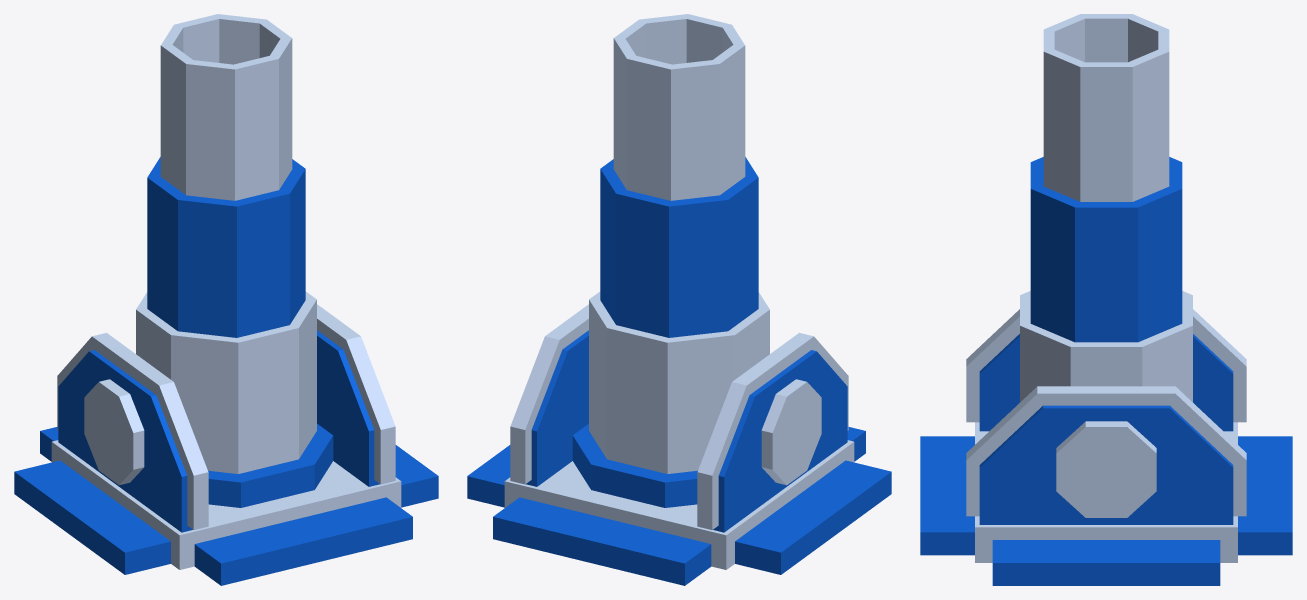
The model's file is Mortar_AA_1.fbx.
The picture shows the model from 3 angles, left to right: view 1: azimuth 30°, elevation 25°; view 2: azimuth 150°, elevation 25°; view 3: azimuth 270°, elevation 25°; orthographic projection. The views are drawn at different scales.
Parts seen in each view (by area): view 1: AntiAirMortarCannon, AntiAirMortarBase; view 2: AntiAirMortarCannon, AntiAirMortarBase; view 3: AntiAirMortarBase, AntiAirMortarCannon.
Part boxes in pixels (x1,y1,x2,y2): AntiAirMortarCannon: (136, 14, 316, 473); AntiAirMortarBase: (14, 304, 438, 585); AntiAirMortarCannon: (589, 14, 769, 473); AntiAirMortarBase: (467, 304, 891, 585); AntiAirMortarBase: (920, 309, 1292, 585); AntiAirMortarCannon: (1020, 14, 1192, 402).
Bounding box in the file's own units: 28.31 × 39.18 × 28.31.
1 material, 1 textured.
